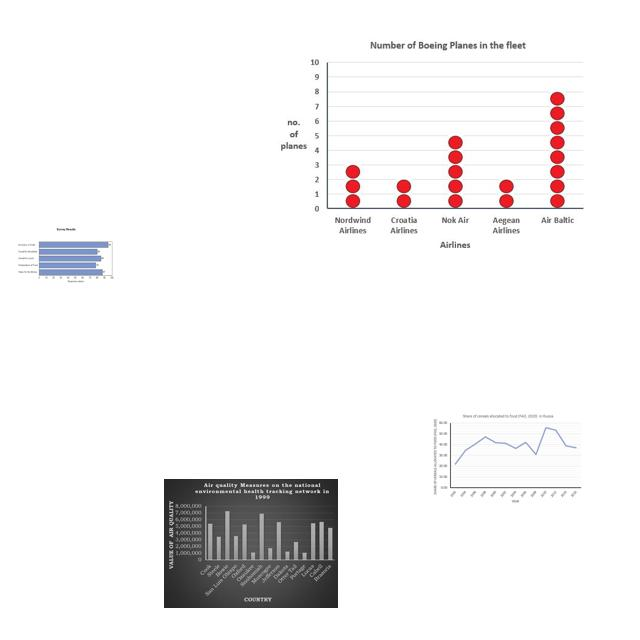Graph: (277, 34, 584, 257), (164, 479, 338, 608), (430, 412, 584, 504), (18, 228, 114, 283)
